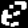e: (0, 0, 28, 28)
